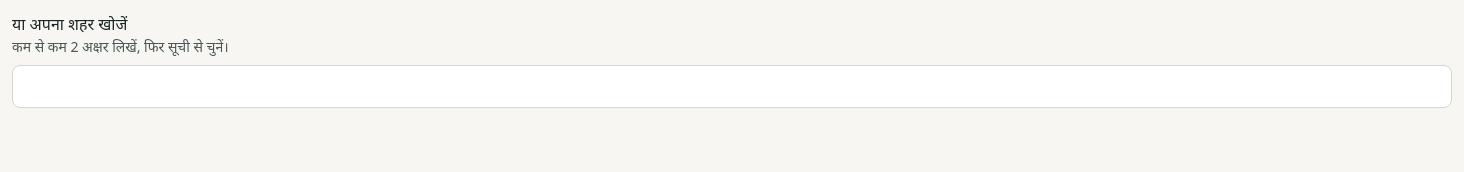
Test: CityCombobox › says it in Hindi too
In the dropdown: (732, 86) [12,65,1452,108], type "Delhi"
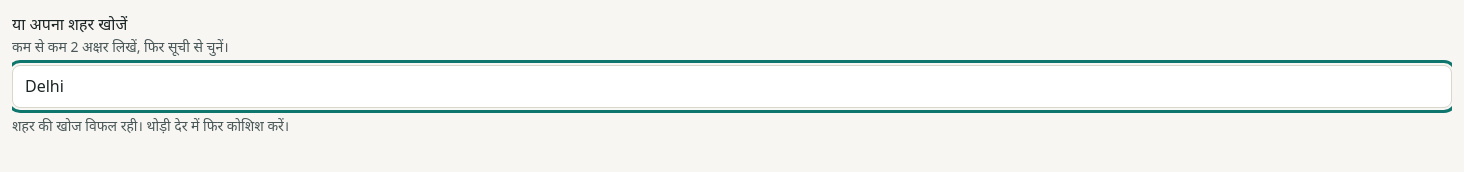
Expected: the text "शहर की खोज विफल रही। थोड़ी देर में फिर कोशिश करें।" is shown, [12,116,289,135]
